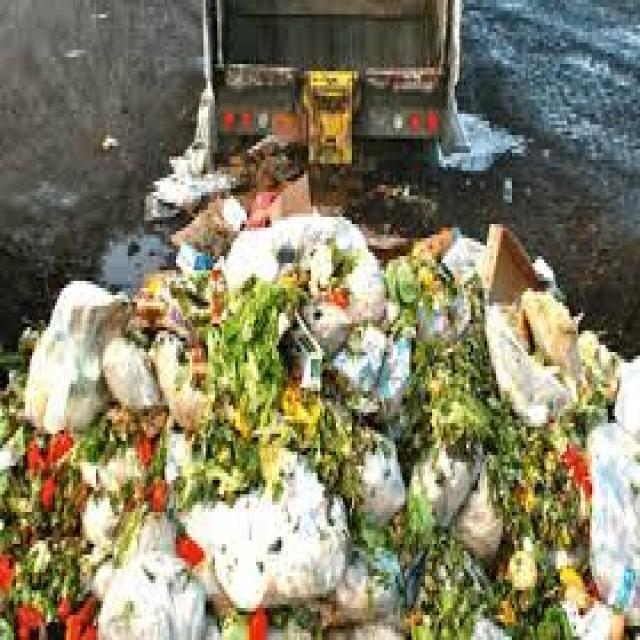Wet: (434, 334, 489, 457), (64, 590, 98, 640), (17, 596, 46, 636), (49, 423, 70, 464), (182, 532, 204, 569), (27, 441, 45, 478), (153, 471, 167, 514), (40, 476, 57, 511)
